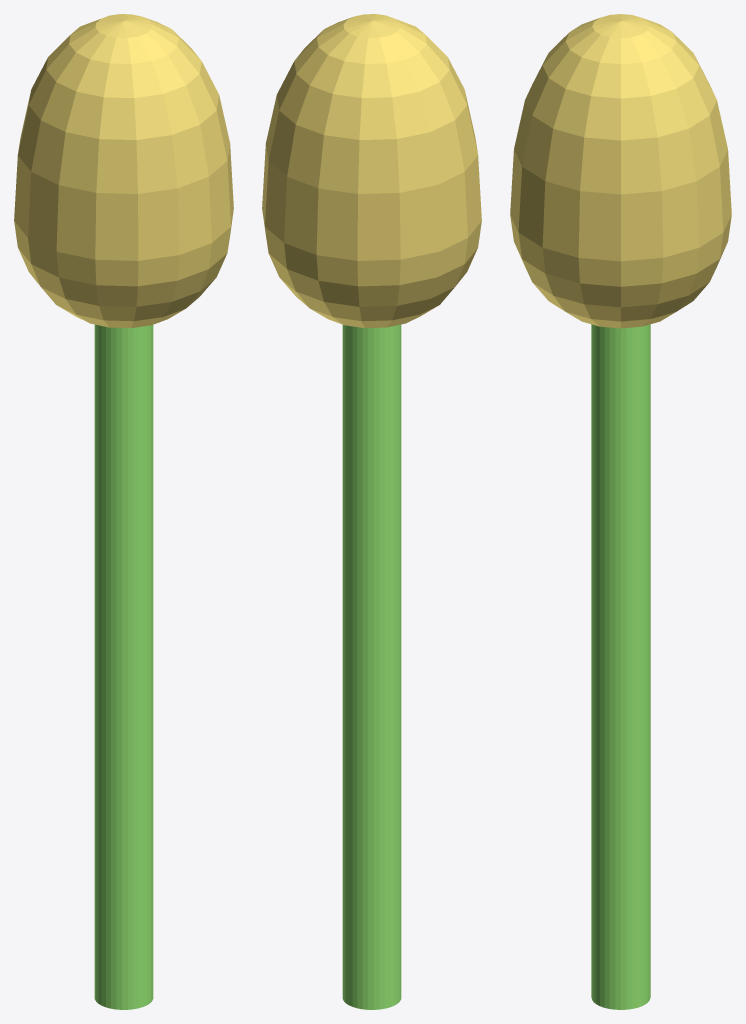
File: MaizeMace.fbx
3 renders of one model, left to right at view 1: azimuth 30°, elevation 25°; view 2: azimuth 150°, elevation 25°; view 3: azimuth 270°, elevation 25°, orthographic.
Visible parts, largest first — view 1: Cylinder; view 2: Cylinder; view 3: Cylinder.
Part boxes in pixels (x1,y1,x2,y2): Cylinder: (14,14,233,1009); Cylinder: (262,14,481,1009); Cylinder: (510,14,731,1009).
Bounding box in the file's own units: 355 × 1727 × 355.
